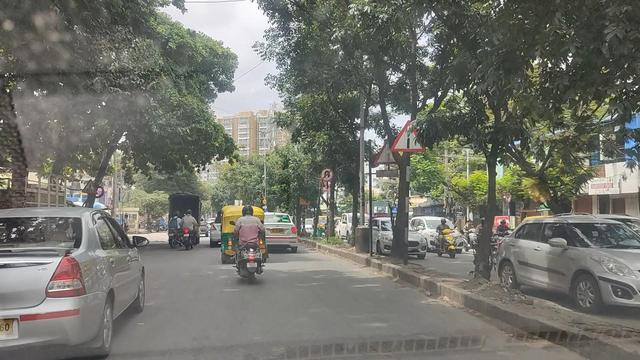LMV: (1, 204, 152, 350), (239, 201, 263, 280)
